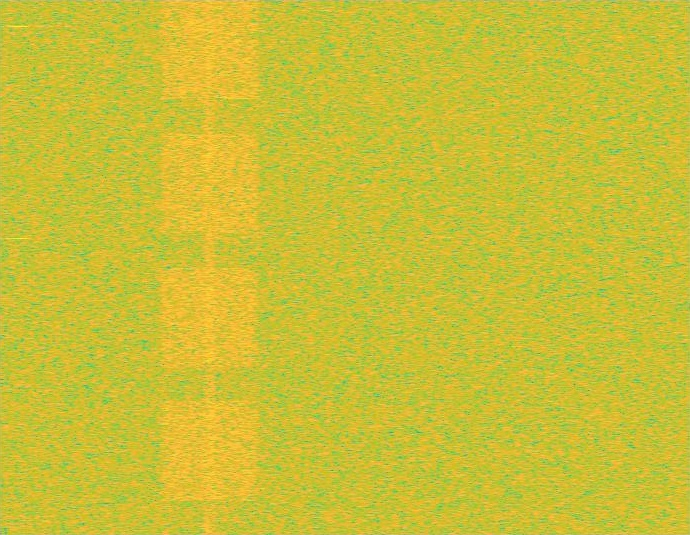5G: (158, 0, 262, 534)
DSSS: (203, 0, 217, 534)
Radar: (12, 0, 26, 534)
